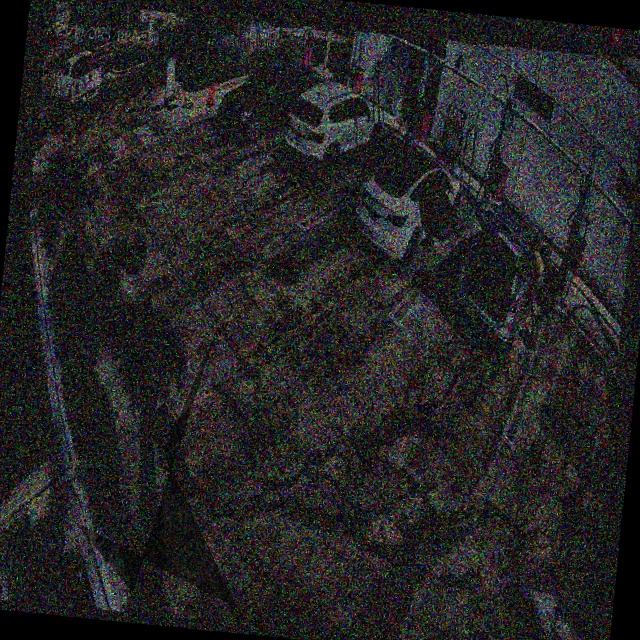Car: (450, 197, 573, 361), (349, 139, 465, 271), (282, 77, 388, 186), (214, 52, 327, 149)
